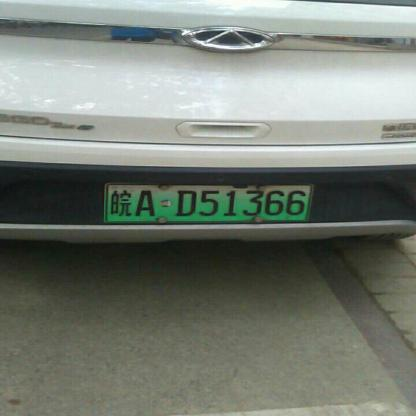lp: (107, 184, 311, 221)
